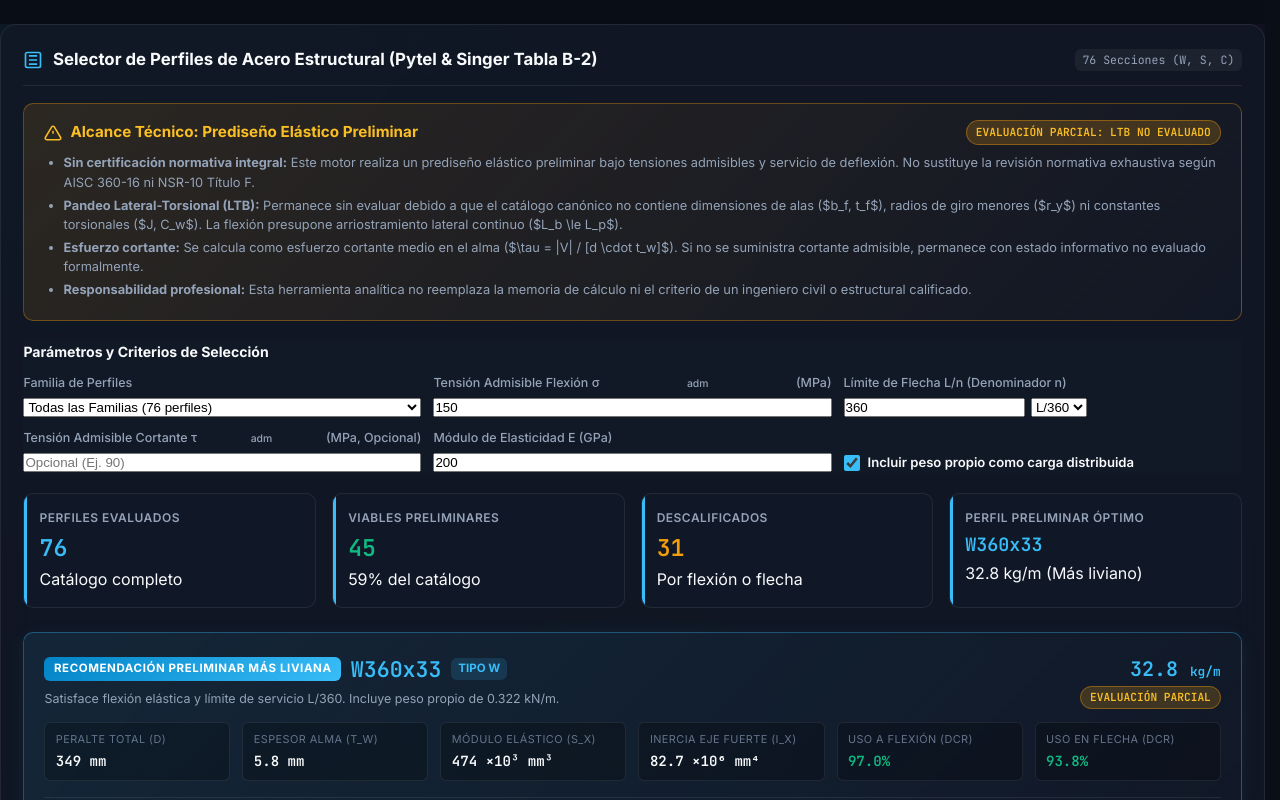
OptiSteel 2.0 — SteelProfileSelector Component Integration Tests › 7. Manejo seguro de casos sin candidatos viables
Note: Forzar criterio imposible: tensión admisible de 1 MPa
Replace the text in the number field labelled "Tensión Admisible Flexión σ adm (MPa)" with "1" at (633, 408), box [434, 398, 832, 417]
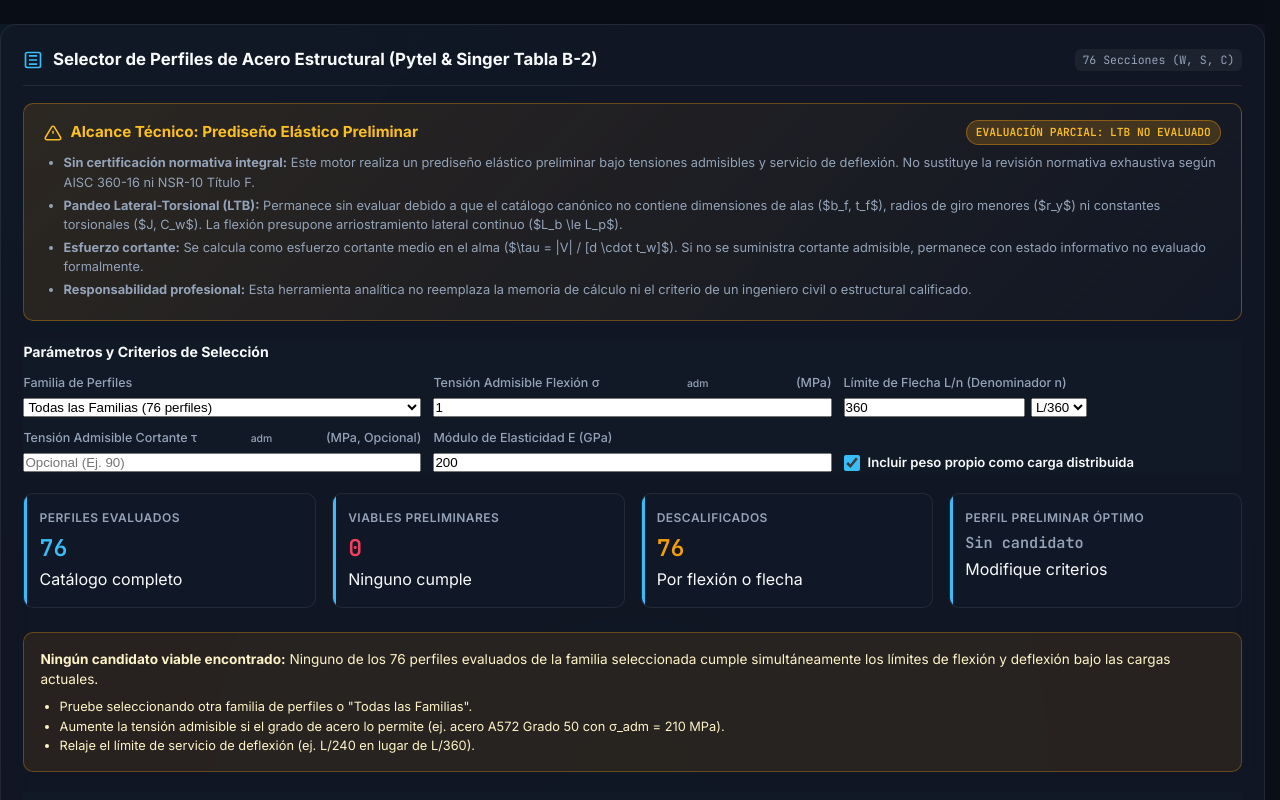
Result: the text "Ningún candidato viable encontrado:" is shown at [40, 651, 286, 667]
Result: the text "Sin candidato" is shown at [965, 532, 1084, 553]
